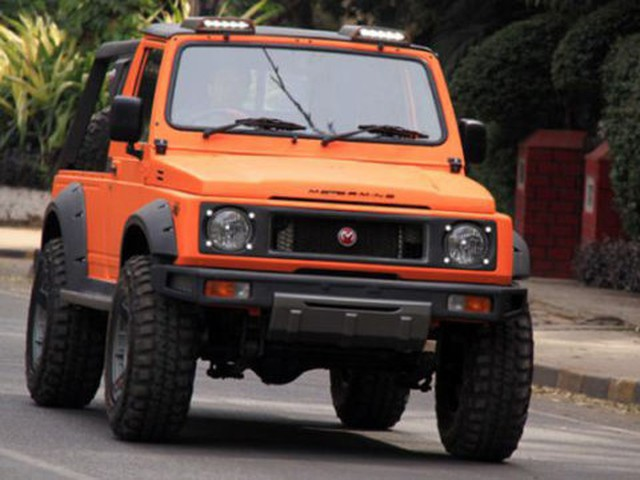Vehicle: (25, 13, 537, 467)
